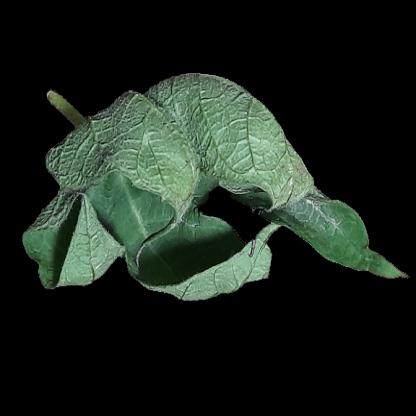curl_stage2: (84, 126, 200, 225), (141, 226, 247, 289), (234, 116, 284, 208), (195, 77, 232, 193), (133, 87, 194, 126), (298, 195, 339, 245), (68, 237, 112, 283), (53, 147, 90, 187)
